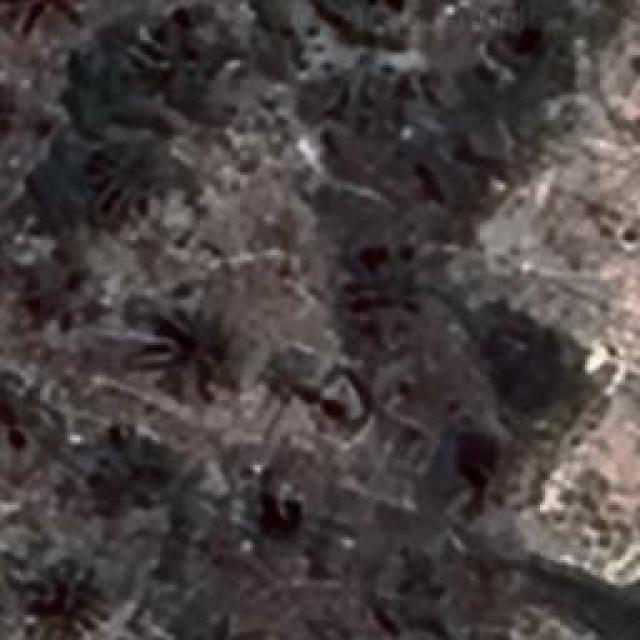PalmTree: (88, 98, 382, 301), (26, 99, 88, 424), (91, 136, 179, 222), (162, 309, 255, 389), (96, 430, 176, 522), (128, 15, 218, 93), (20, 248, 105, 330), (24, 558, 118, 632), (0, 0, 89, 28)
